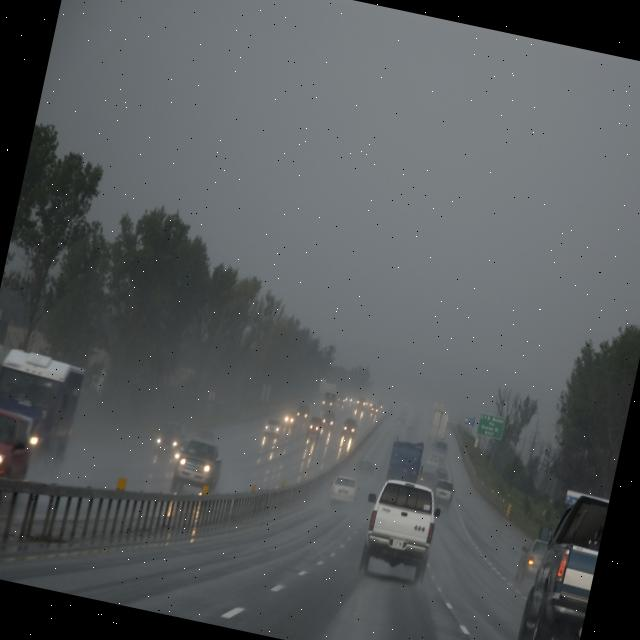bus: (0, 347, 85, 478), (386, 438, 424, 484), (424, 408, 450, 452)
car: (510, 487, 608, 640), (352, 474, 443, 582), (168, 432, 225, 501), (0, 400, 42, 486), (512, 530, 551, 584), (328, 473, 360, 506), (153, 420, 184, 454), (429, 478, 456, 512), (352, 458, 376, 482), (428, 438, 449, 464), (304, 415, 322, 439), (262, 416, 281, 438), (339, 415, 358, 437), (172, 437, 188, 463), (293, 402, 312, 422), (320, 408, 337, 428), (417, 470, 435, 488), (319, 392, 336, 411), (281, 410, 297, 428), (424, 451, 440, 468), (432, 466, 450, 480), (404, 424, 418, 441), (354, 394, 366, 410), (392, 416, 403, 428), (344, 393, 354, 404), (364, 398, 374, 409), (369, 404, 379, 414), (336, 394, 345, 405)
